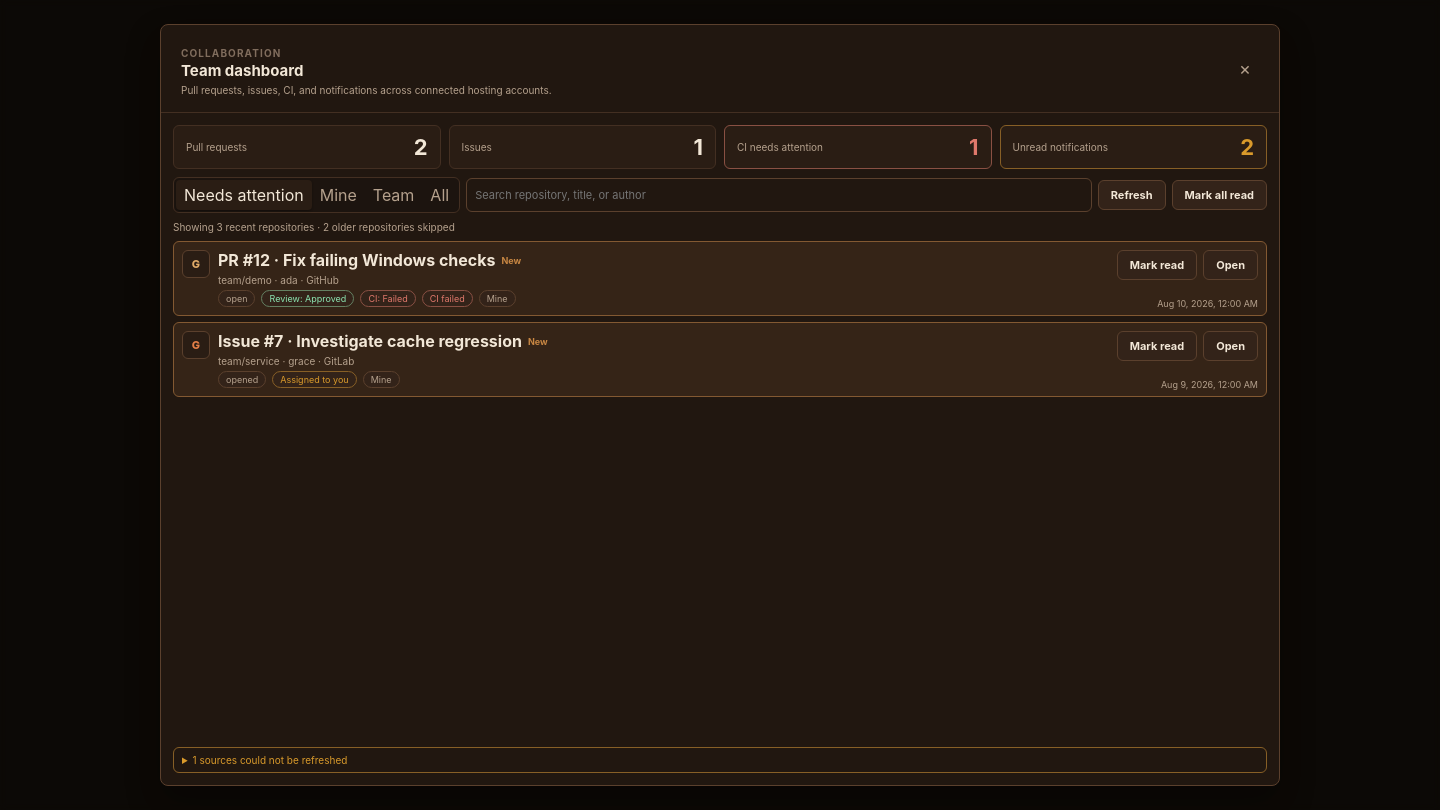
it: ForgeDashboard › aggregates pull requests, issues, CI attention, and partial refresh failures
Expected: the text "PR #12 · Fix failing Windows checks" is shown, [218,250,496,270]
Expected: the text "Issue #7 · Investigate cache regression" is shown, [218,331,522,351]
Click the tab "Team".
click(394, 195)  # box [365,180,422,210]
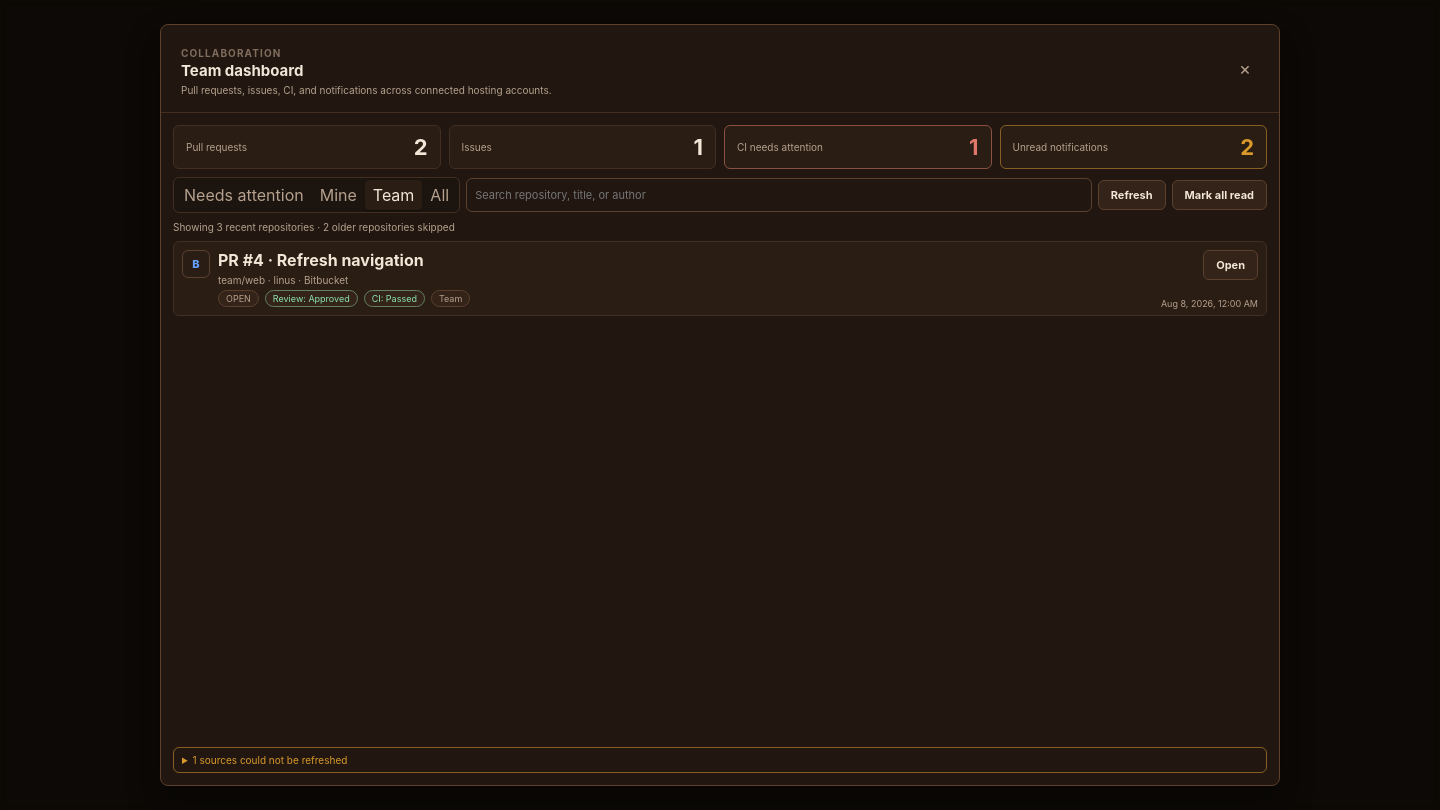
Result: the text "PR #4 · Refresh navigation" is shown at [218,250,424,270]
Result: the text "Fix failing Windows checks" is gone
Click the heading "1 sources could not be refreshed".
click(270, 760)  # box [193,754,347,766]
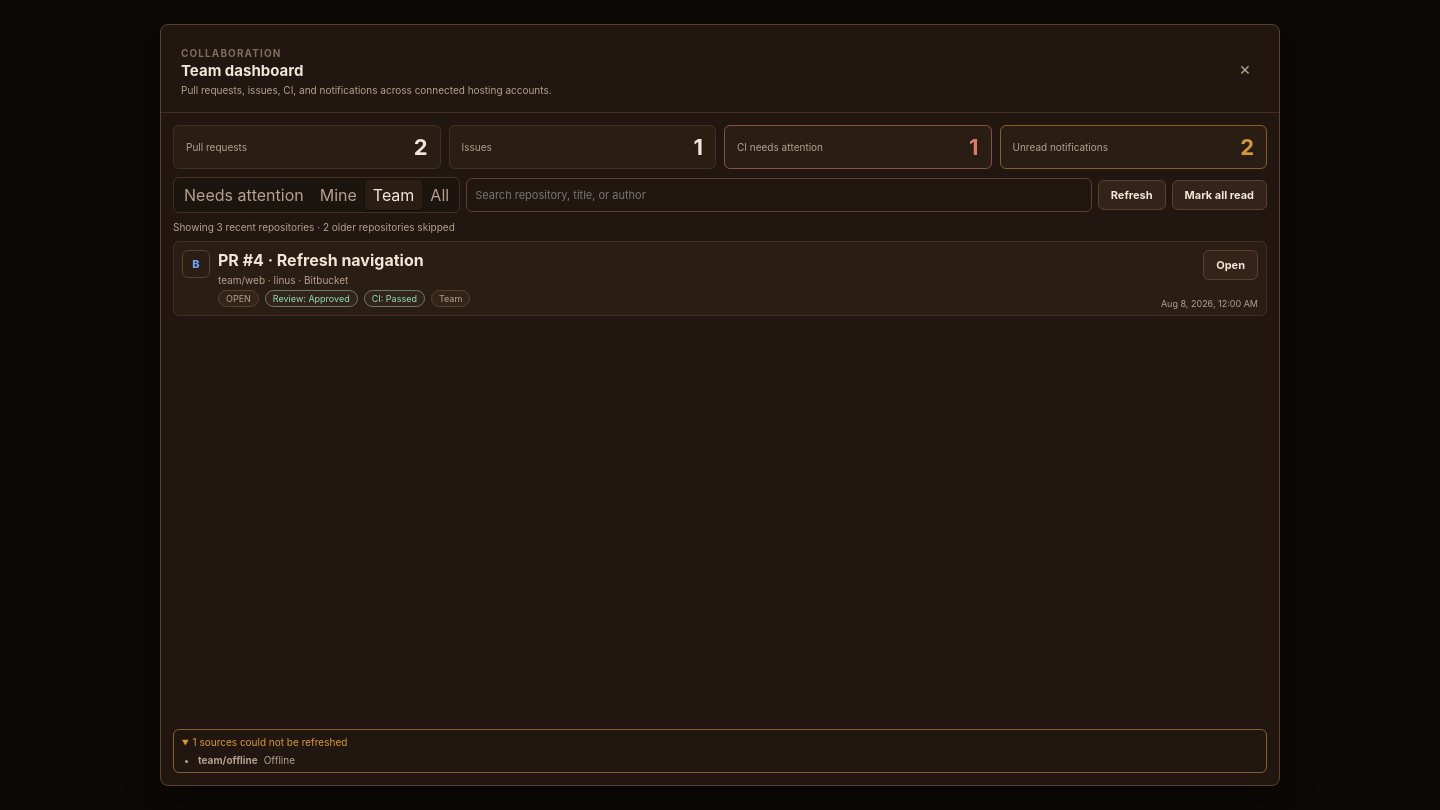
Result: the text "team/offline" is shown at [198,754,258,766]
Result: the text "Offline" is shown at [264,754,295,766]
